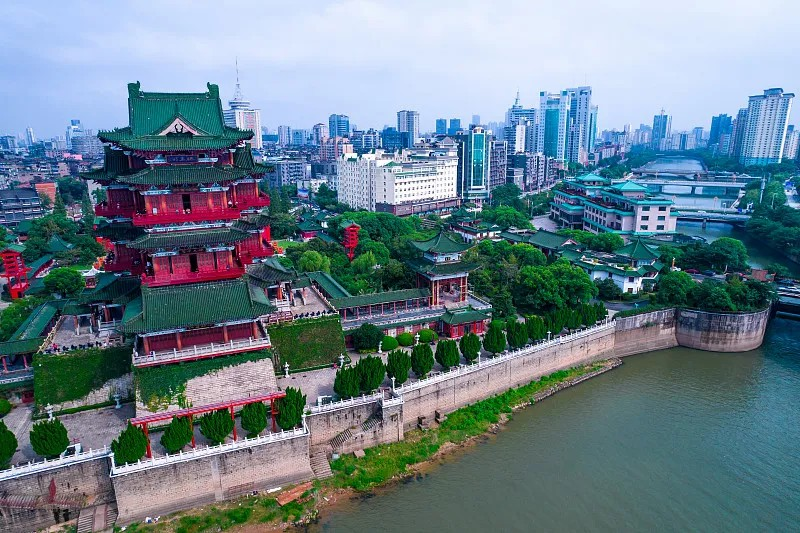Teng: (61, 80, 296, 344)
